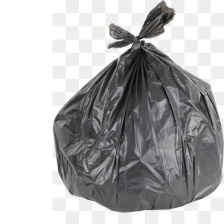plastic_bag: (43, 0, 224, 216)
